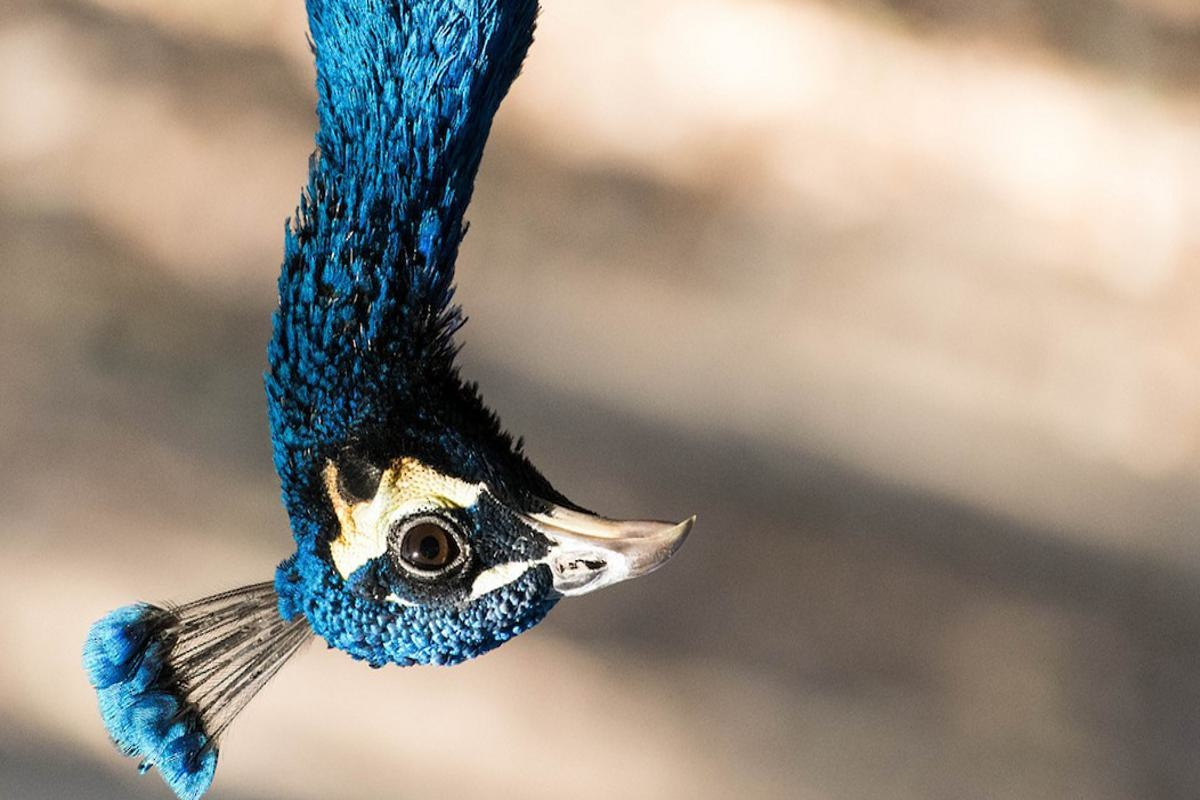peacock: (247, 1, 741, 747)
